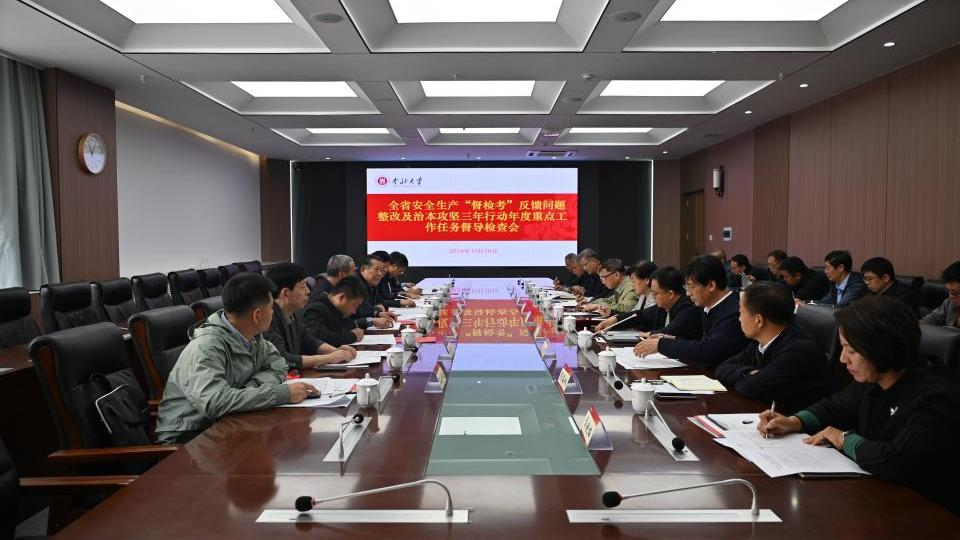persion: (836, 331, 869, 382), (738, 296, 764, 338), (282, 277, 310, 314), (250, 297, 273, 340), (682, 278, 716, 305), (648, 281, 673, 308), (337, 292, 361, 318), (363, 261, 387, 286), (863, 269, 890, 291), (629, 274, 651, 296), (601, 269, 622, 289), (765, 255, 782, 278), (338, 259, 356, 279), (826, 262, 844, 281), (780, 270, 802, 284), (944, 284, 960, 303), (391, 262, 407, 278), (582, 257, 596, 275), (731, 260, 745, 276), (573, 259, 582, 277), (710, 251, 723, 262), (565, 256, 573, 269)
